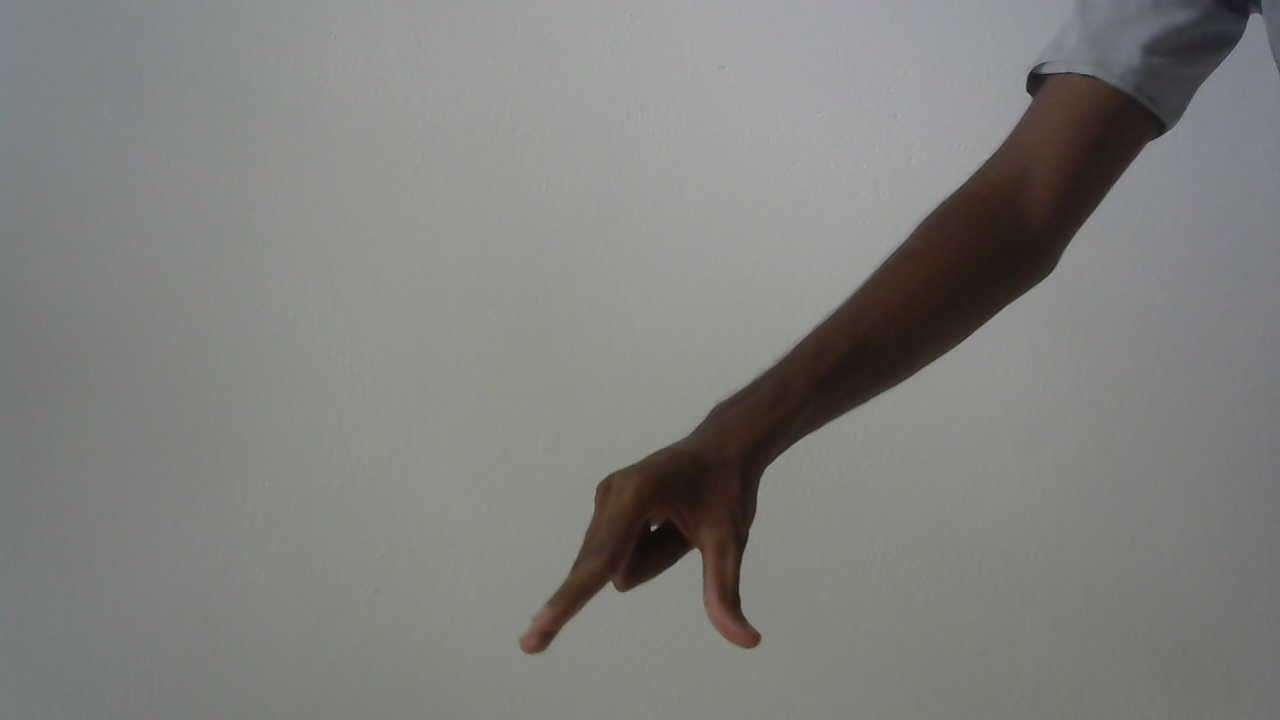no: (507, 425, 807, 672)
